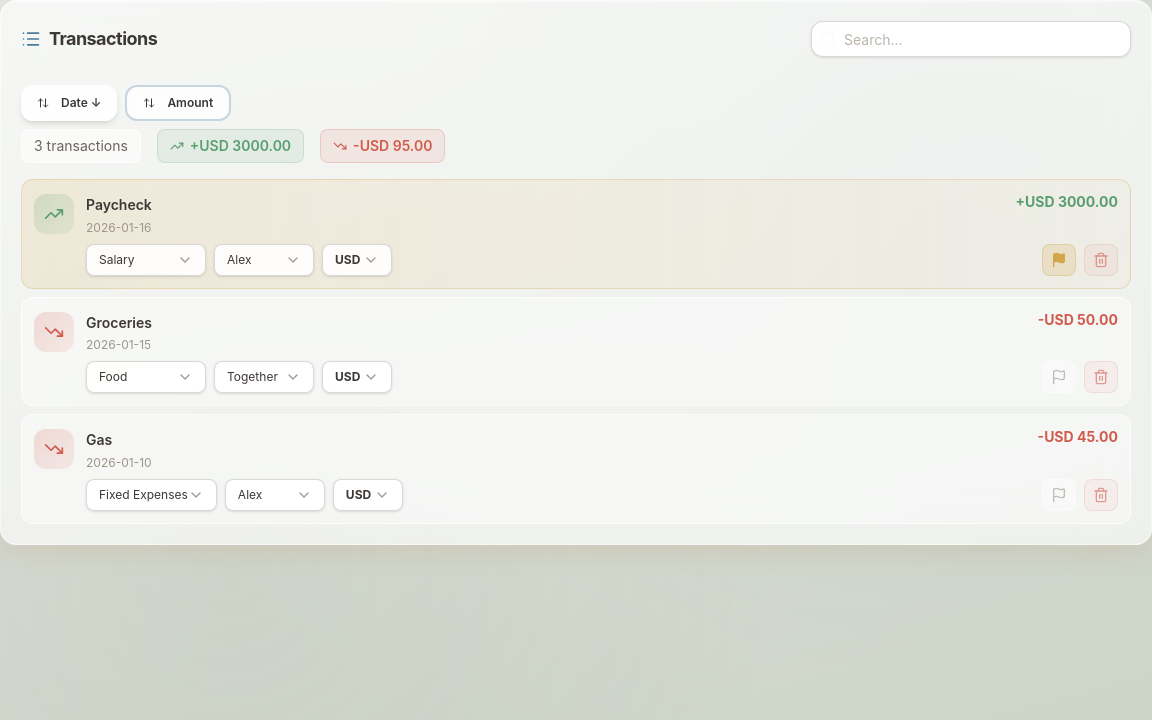
Test: TransactionList › ConfirmDialog interaction › deletes transaction when confirm is clicked
Expected: the button "Groceries" is shown, left=86, top=313, right=152, bottom=333
Click the 1st button named "Delete this transaction". click: click(1101, 260)
box: left=1084, top=244, right=1118, bottom=276
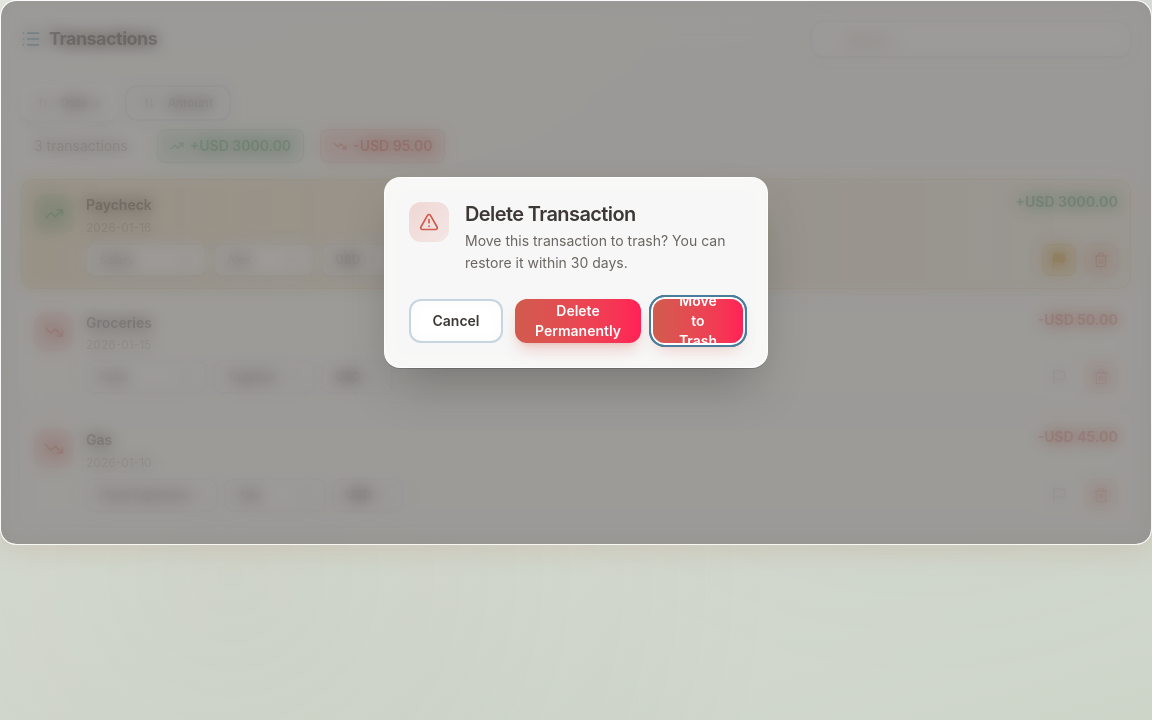
Result: the heading "Delete Transaction" is shown at left=465, top=202, right=636, bottom=226
Click the button "Move to Trash". click: click(698, 321)
box: left=653, top=299, right=743, bottom=343
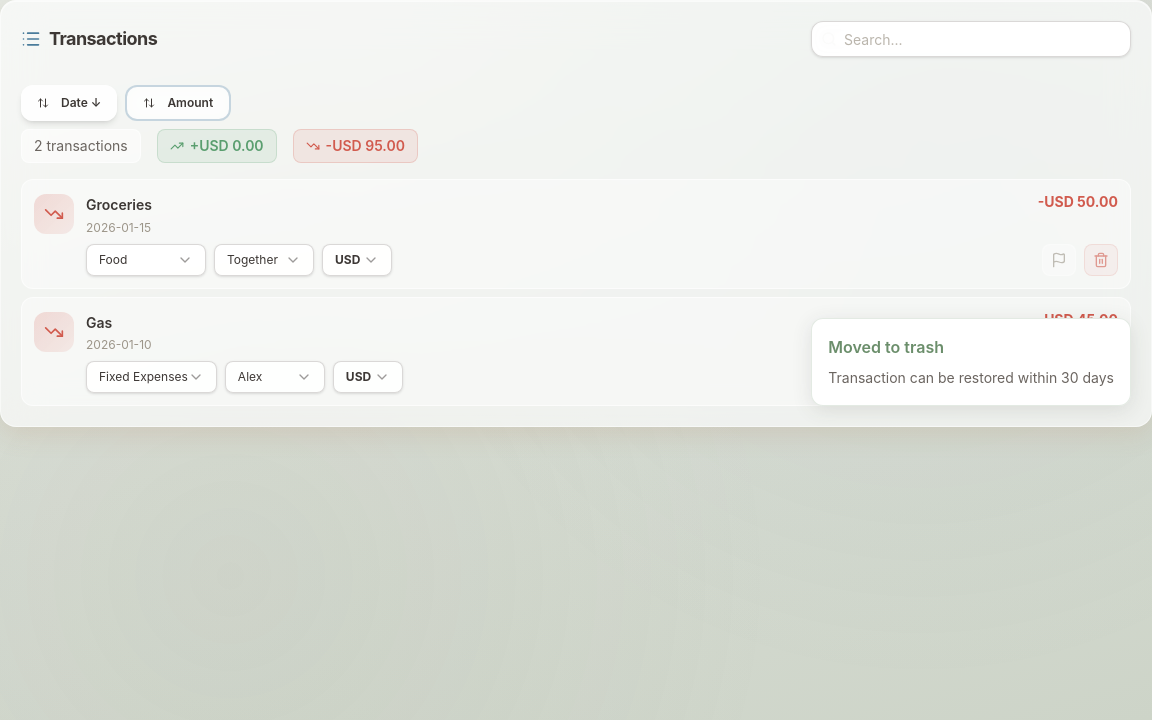
Result: the heading "Delete Transaction" is gone
